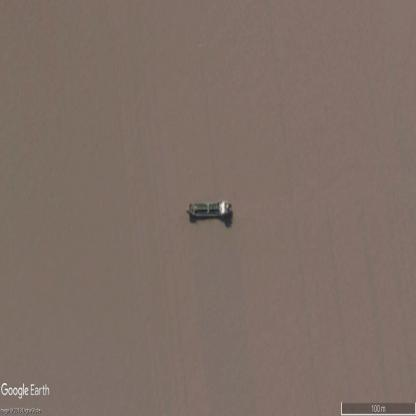ship: (186, 201, 232, 219)
